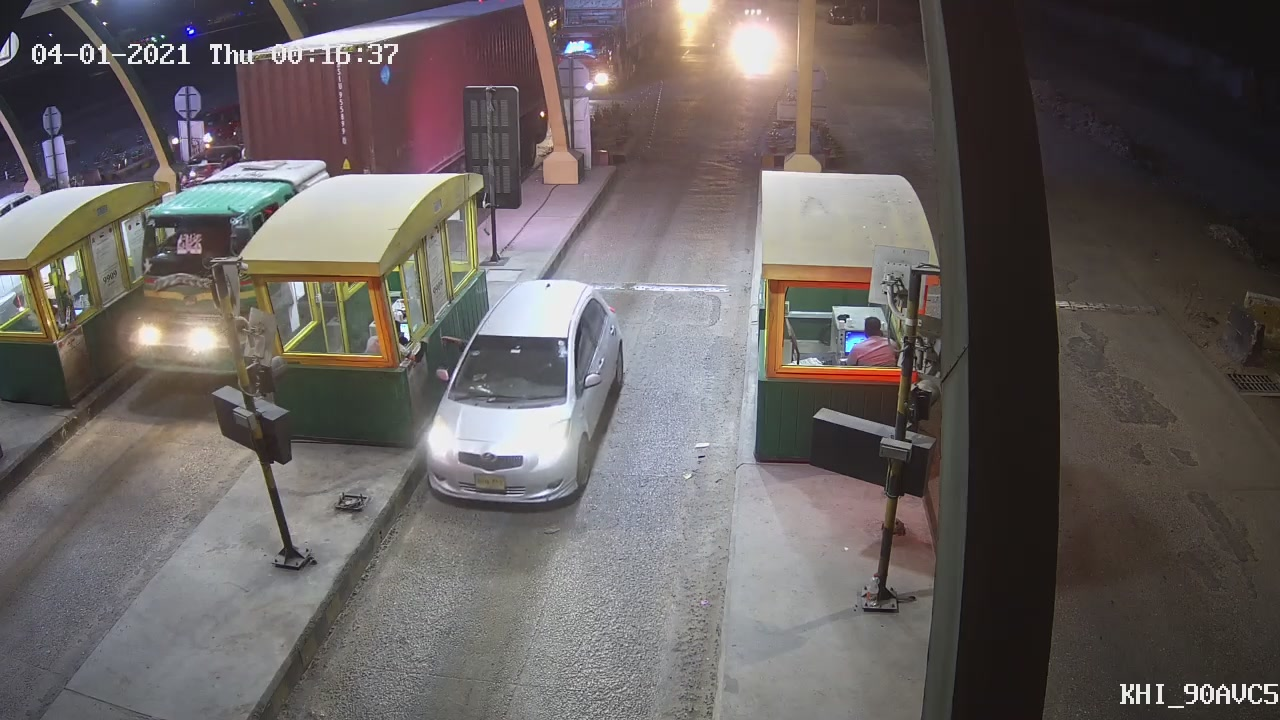F1: (419, 275, 628, 528)
